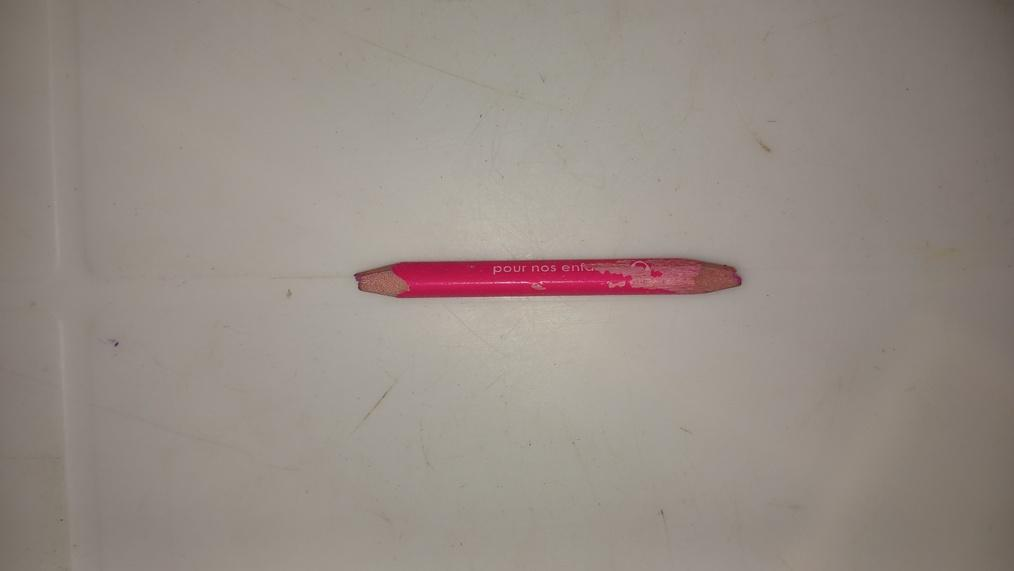Pencil: (354, 259, 743, 298)
